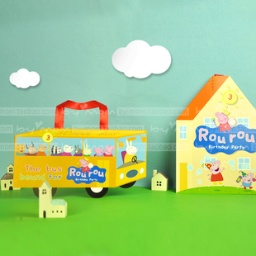Peppa: (205, 161, 228, 190)
